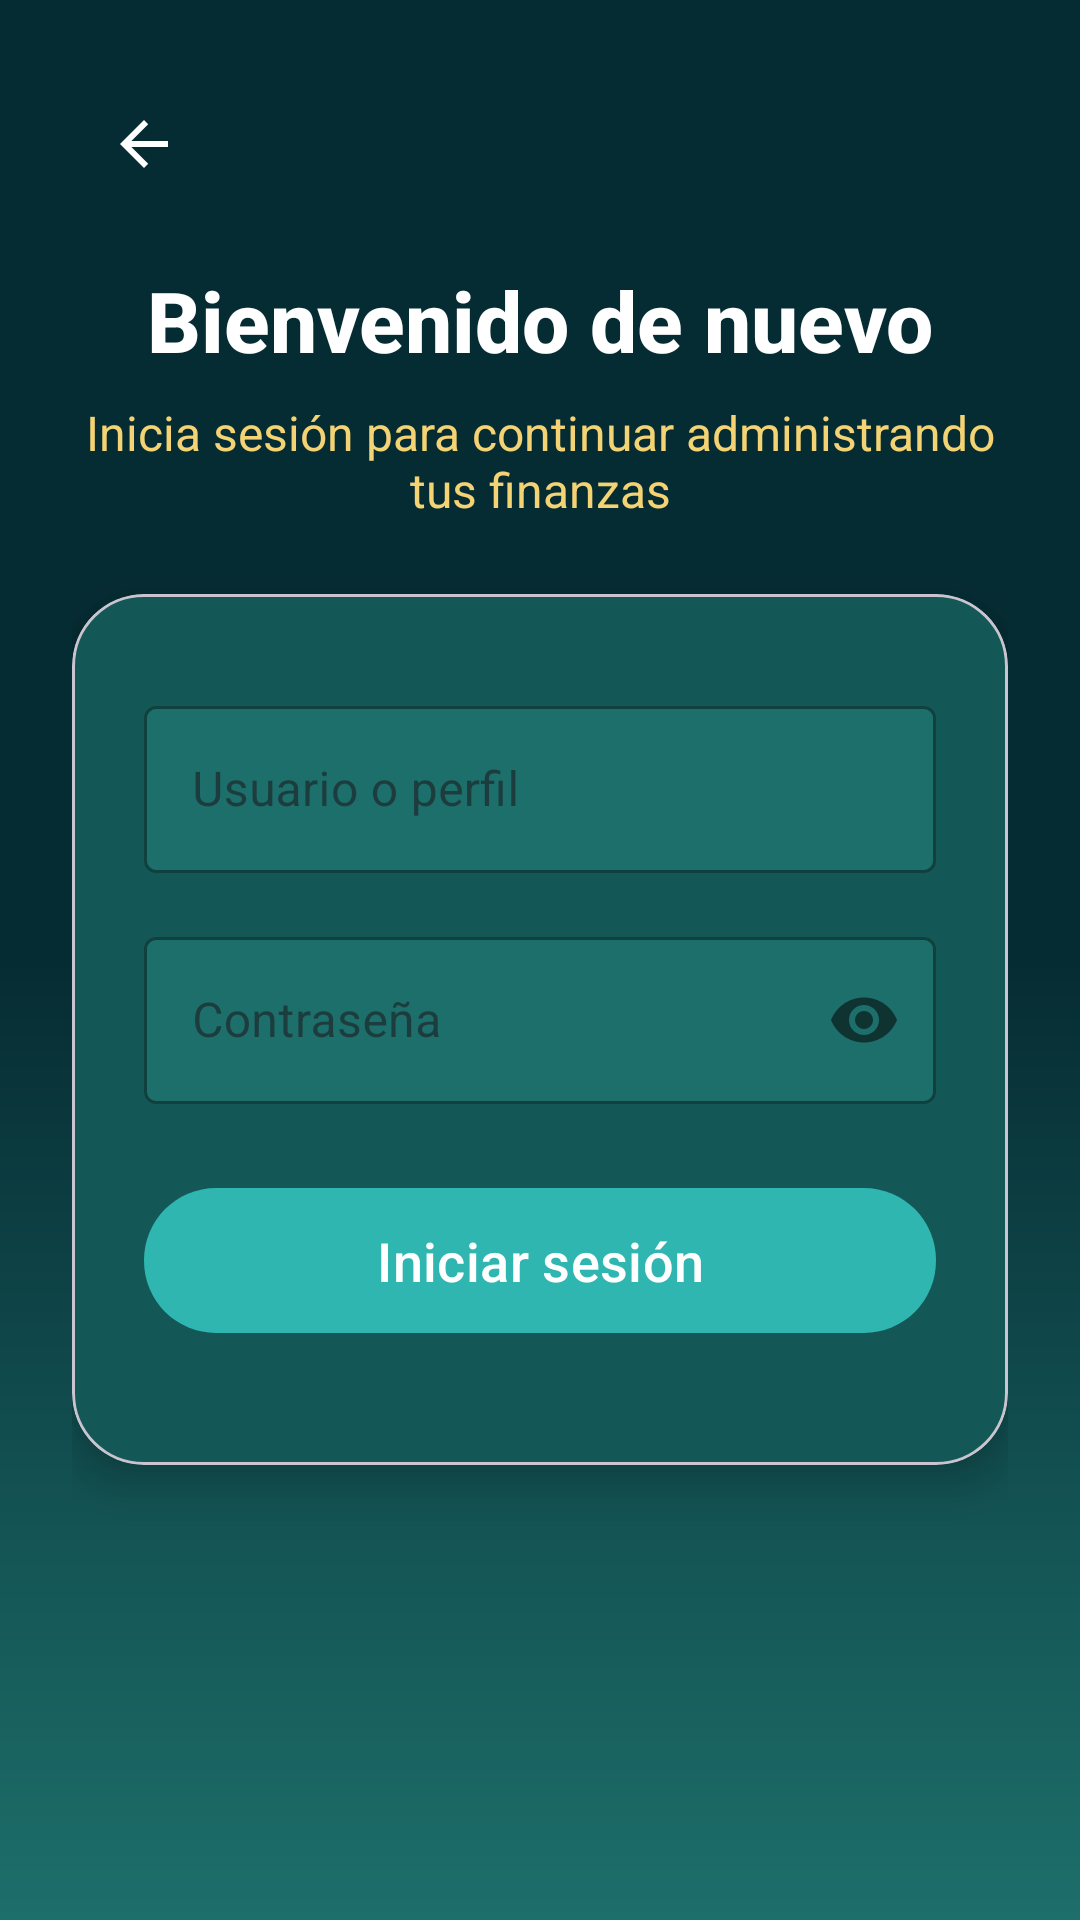

Point at icon controls on the screen. Image size 1080 × 1920, points as point (x, y).
Volver: point (144, 144)
